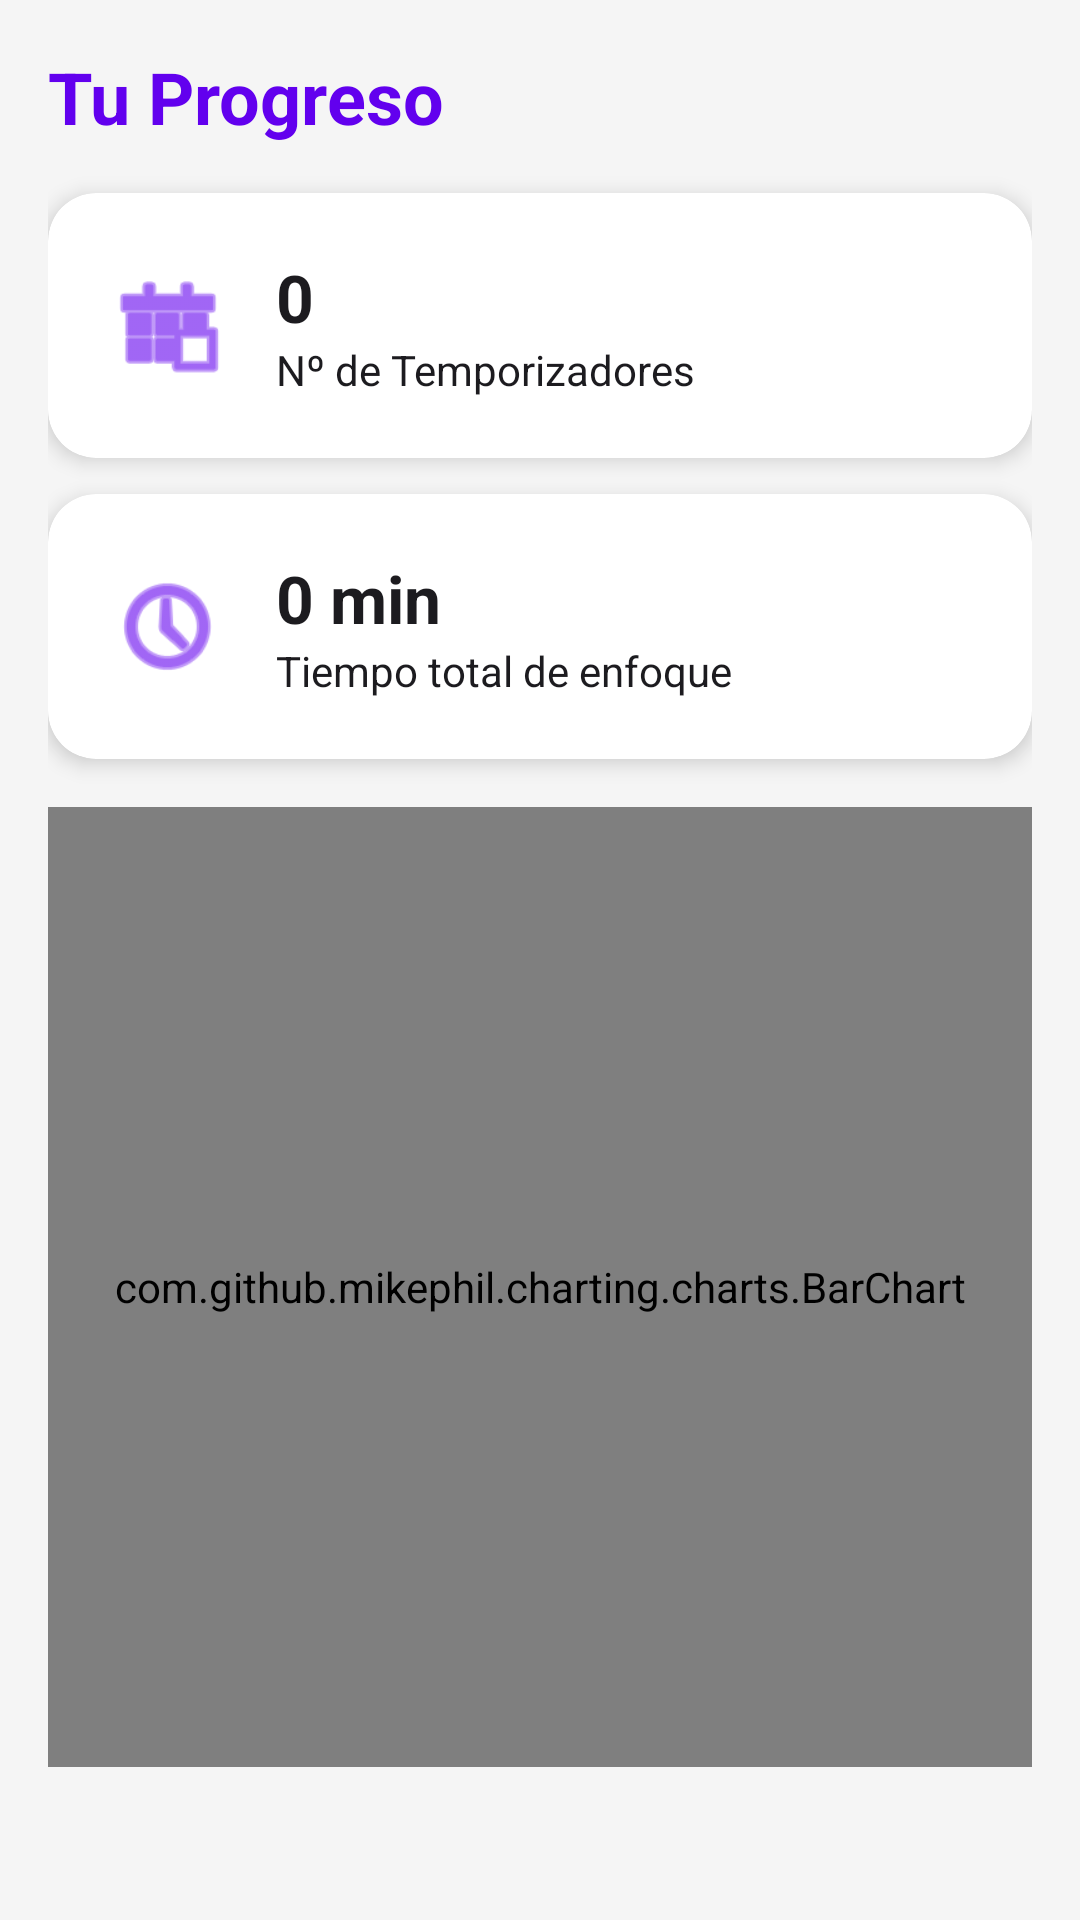

Icon click points for this 1080x1920 phone screenshot, format (x=x, y=y):
recent history: (x=167, y=626)
today: (x=169, y=327)
